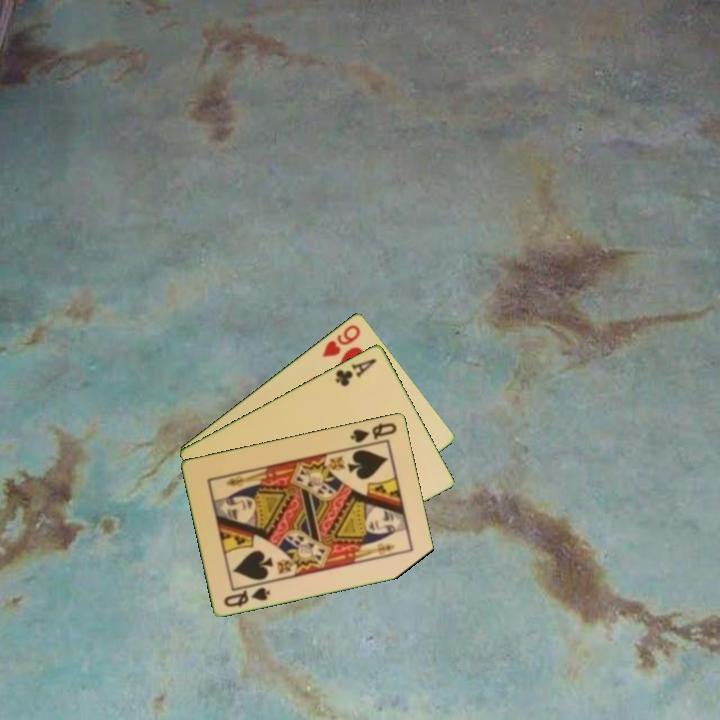9h: (318, 320, 364, 360)
Ac: (332, 354, 380, 389)
Qs: (221, 579, 273, 610), (347, 419, 400, 445)
